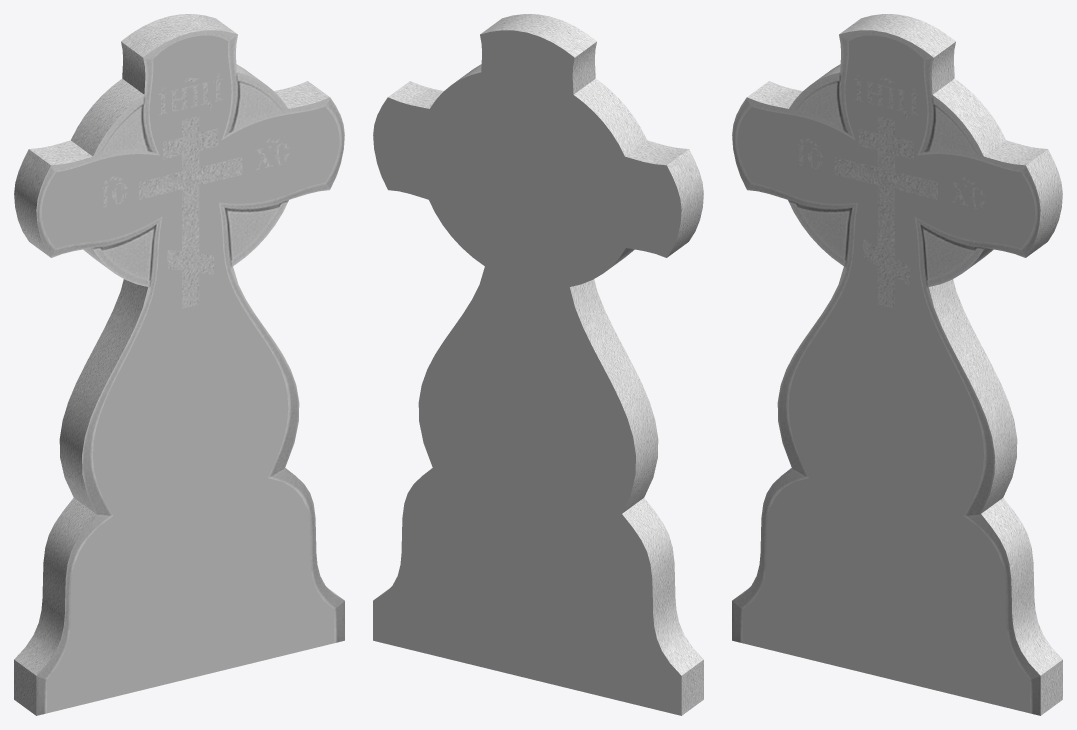
The model's file is cnf211caf2ad_tkf.glb.
3 views of the same model, side by side, from view 1: azimuth 30°, elevation 25°; view 2: azimuth 150°, elevation 25°; view 3: azimuth 330°, elevation 25° (orthographic).
Visible parts, largest first — view 1: Pam-d03-108, Pam-d03-108_2_notexture; view 2: Pam-d03-108, Pam-d03-108_2_notexture; view 3: Pam-d03-108, Pam-d03-108_2_notexture.
Boxes of the visible parts, x1,y1,x2,y2 form: Pam-d03-108: (41,35,339,713); Pam-d03-108_2_notexture: (14,14,344,715); Pam-d03-108: (373,30,681,715); Pam-d03-108_2_notexture: (374,14,703,715); Pam-d03-108: (737,35,1035,713); Pam-d03-108_2_notexture: (732,14,1062,715).
Size of the model in its own units: 0.4 by 0.8 by 0.05.
1 material, 1 textured.
